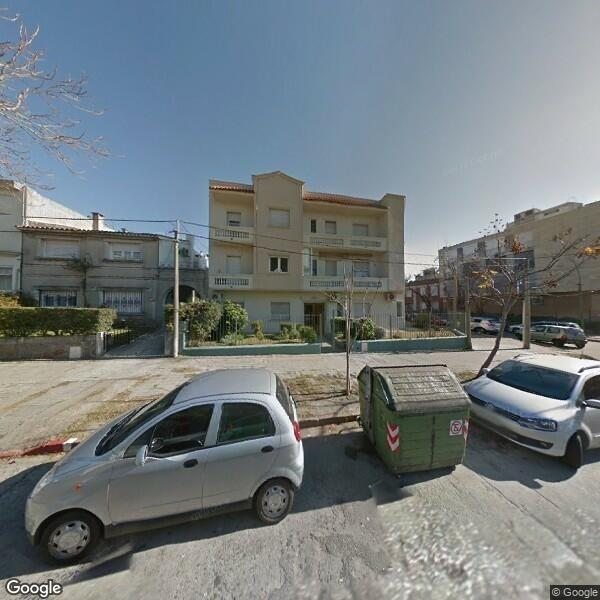Trash: (357, 362, 471, 474)
